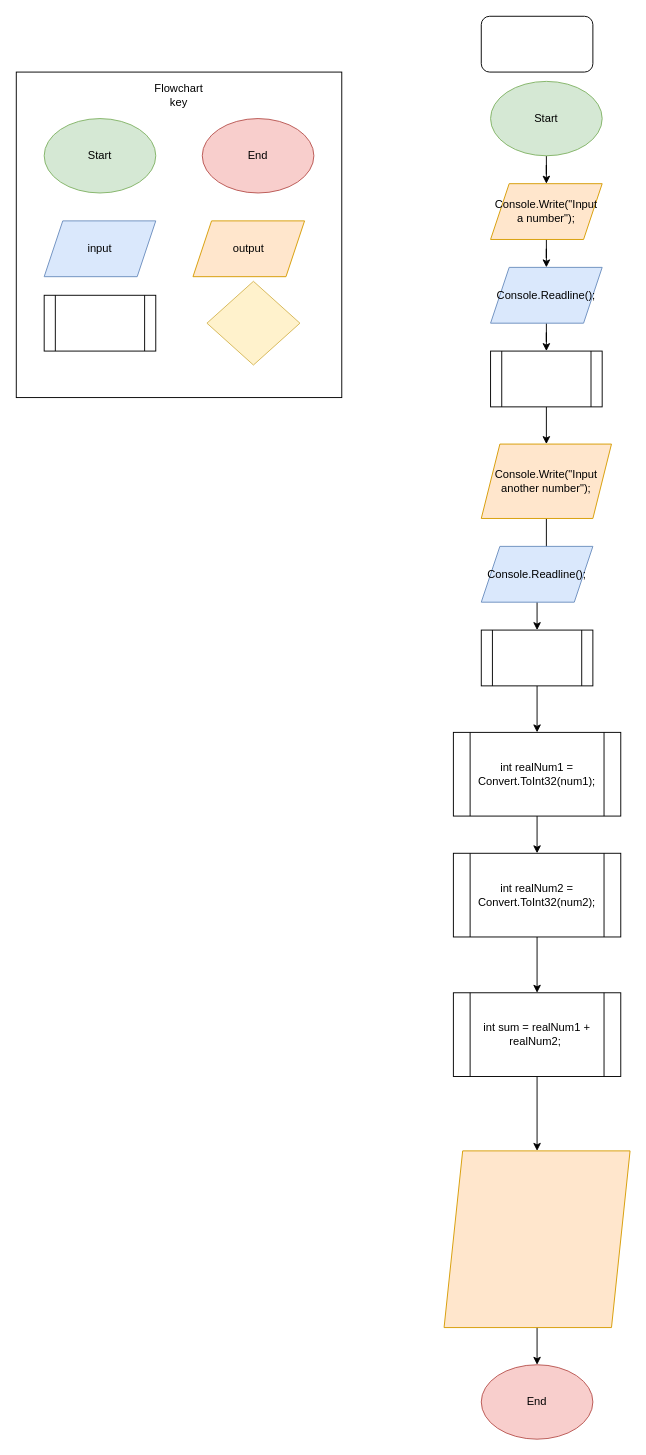
Some shapes in this 646 by 1455 pixel diagram are drawn without their labels. The centre of each missing label's shape, as x and y in pixels:
Console.WriteLine($"The sum of your two numbers is: {sum}");: point 536,1239
Decision: point 253,322
Mini Challenge #2 - Add two numbers: point 536,43
process: point 99,322
String num1 = user input: point 546,378
String num2 = user input: point 536,657
